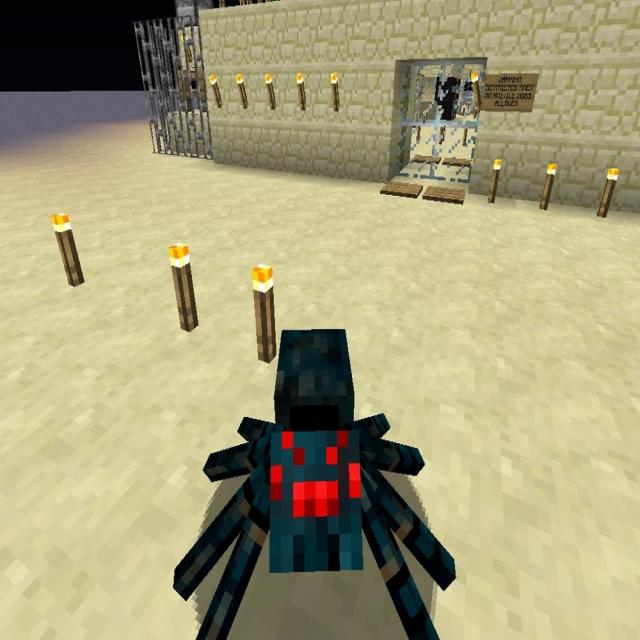Cave Spider: (163, 319, 461, 640)
